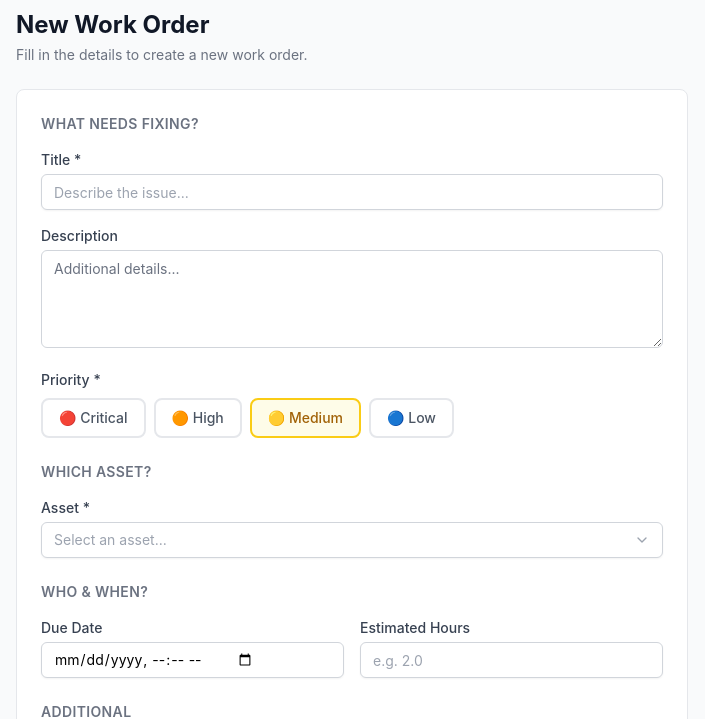
Test: WorkOrderCreatePage › validates required title (min length)
The width and height of the screenshot is (705, 719).
Step 1. Type "Hi" into the field with placeholder "Describe the issue..." → x=352, y=192, box [41,174,663,210]
(page scrolled)
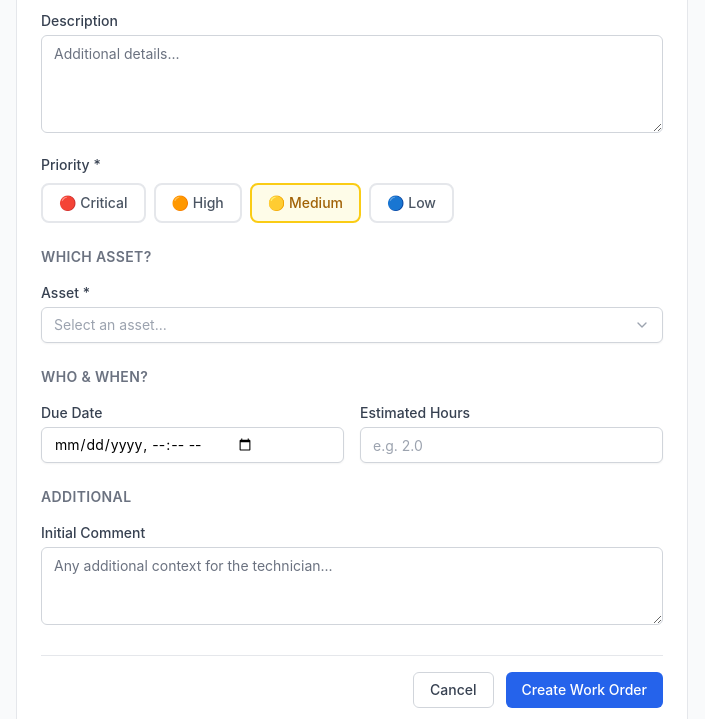
// Submit form
Step 2. Click the button "Create Work Order" → x=584, y=690, box [506,672,663,708]
(page scrolled)
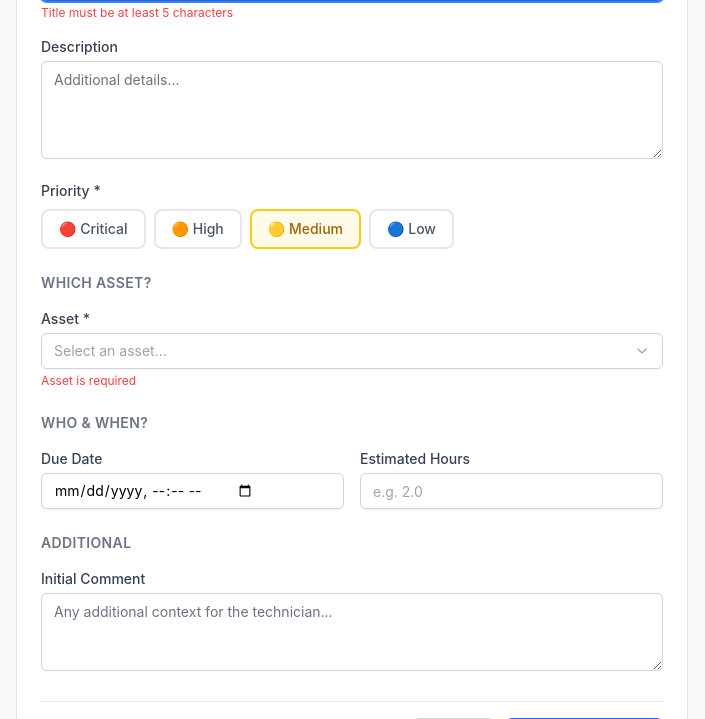
Expected: the text "Title must be at least 5 characters" is shown, [41,5,233,20]
